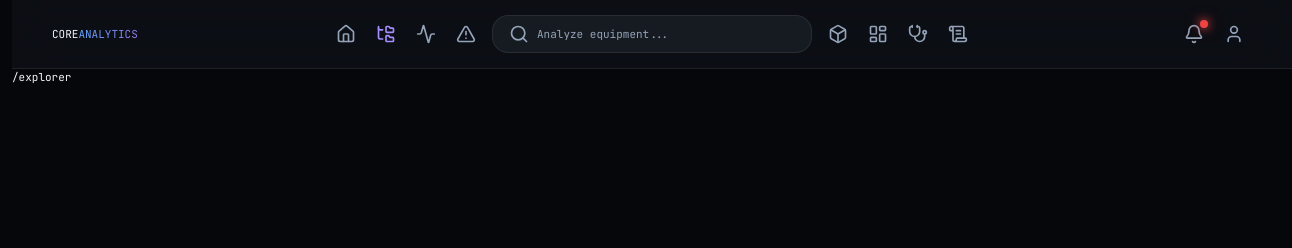
Test: Topbar › keeps the viewer route and swaps in admin actions after successful admin login
Click the button titled "Usuario". click: point(1234, 34)
box: [1216,16,1252,52]
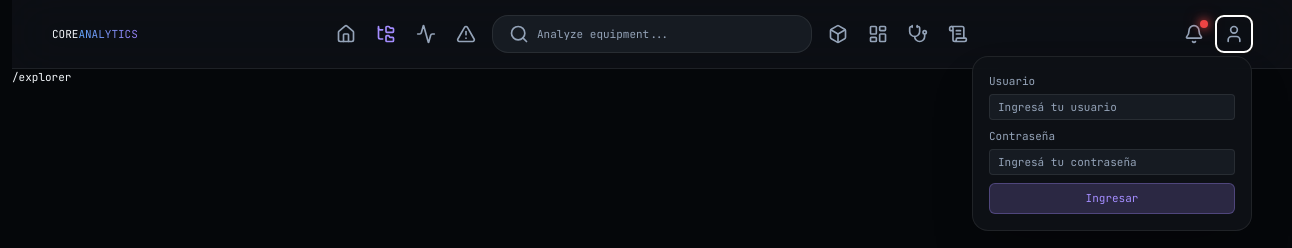
Type "admin" into the field labelled "Usuario". click: point(1112, 107)
box: [989,94,1235,120]
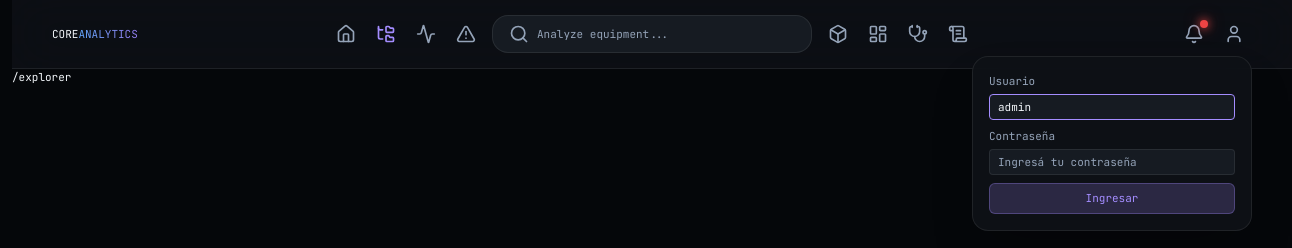
Type "7trebol" into the password field labelled "Contraseña". click: point(1112, 162)
box: [989,148,1235,175]
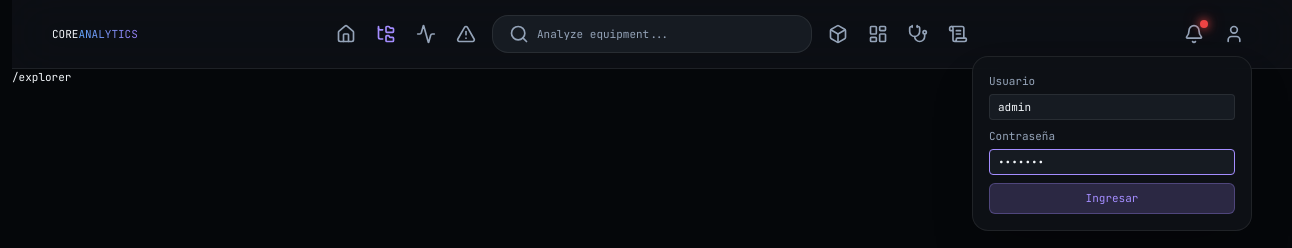
Click the button "Ingresar". click: point(1112, 198)
box: [989,183,1235,214]
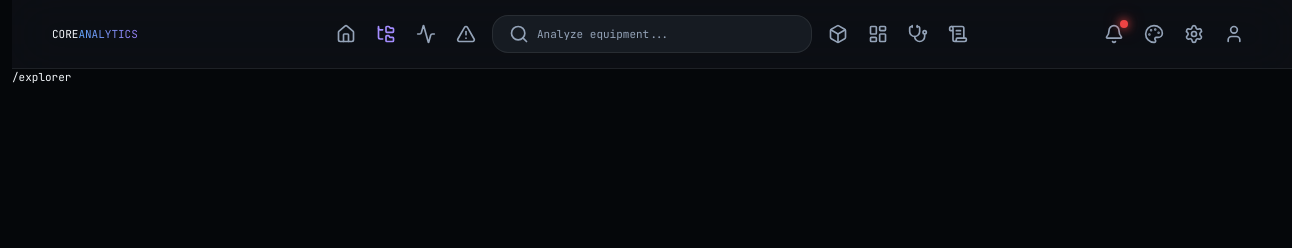
Result: the button titled "Personalizar fondo" is shown at [1136,16,1172,52]
Result: the button titled "Administracion" is shown at [1176,16,1212,52]
Result: the label labelled "Usuario" is gone
